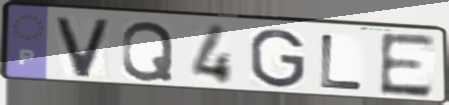4: (189, 22, 238, 88)
E: (377, 31, 438, 100)
G: (247, 27, 307, 90)
L: (318, 31, 367, 92)
Q: (119, 20, 177, 83)
V: (53, 15, 114, 80)
